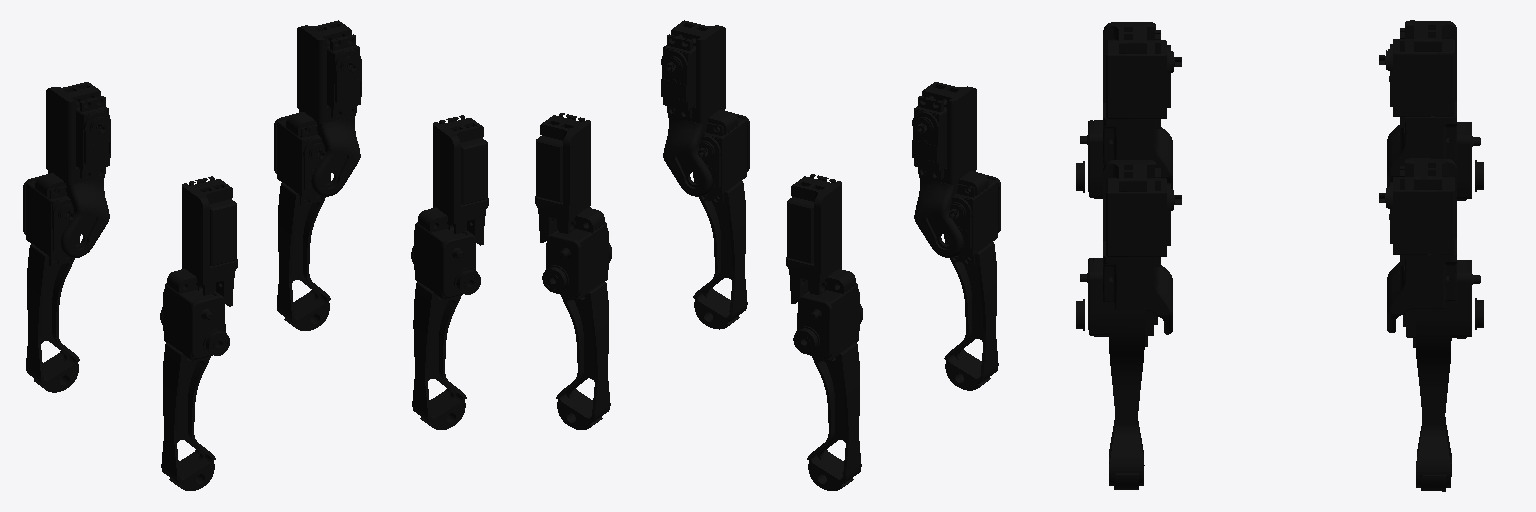
robot.urdf — rex:
<?xml version="1.0" encoding="utf-8"?>
<robot name="rex" xmlns:xacro="http://www.ros.org/wiki/xacro">
  <material name="yellow">
    <color rgba="0.92 0.83 0.0 1"/>
  </material>
  <material name="black">
    <color rgba="0.1 0.1 0.1 1"/>
  </material>
  <material name="grey">
    <color rgba="0.6 0.6 0.6 1"/>
  </material>
  <!-- Params -->
  <!-- Macros -->
  <!-- Robot Body -->
  <link name="base_link">
    <visual>
      <geometry>
        <mesh filename="stl/mainbody.stl" scale="0.001 0.001 0.001"/>
      </geometry>
      <material name="black"/>
      <origin rpy="0 0 0" xyz="-0.045 -0.060 -0.015"/>
    </visual>
    <collision>
      <geometry>
        <box size="0.14 0.11 0.07"/>
      </geometry>
      <origin rpy="0 0 0" xyz="0 0 0"/>
    </collision>
    <inertial>
      <mass value="0.6"/>
      <inertia ixx="0.00085" ixy="0" ixz="0" iyy="0.0012250000000000002" iyz="0" izz="0.0015850000000000003"/>
    </inertial>
  </link>

<!--  @TODO add lidar sensor-->
  <!-- Lidar Backpack -->
<!--  <link name="lidar_link">-->
<!--    <visual>-->
<!--      <geometry>-->
<!--        <mesh filename="stl/rplidar_main.STL" scale="0.001 0.001 0.001"/>-->
<!--      </geometry>-->
<!--      <material name="black"/>-->
<!--      <origin rpy="1.57075 0 0" xyz="-0.06425 0.02885 0"/>-->
<!--    </visual>-->
<!--    <collision>-->
<!--      <geometry>-->
<!--        <box size="0.0985 0.0577 0.07"/>-->
<!--      </geometry>-->
<!--      <origin rpy="0 0 0" xyz="0 0 0"/>-->
<!--    </collision>-->
<!--    <inertial>-->
<!--      <mass value="0.50"/>-->
<!--      <inertia ixx="100" ixy="0" ixz="0" iyy="100" iyz="0" izz="100"/>-->
<!--    </inertial>-->
<!--  </link>-->
<!--  <joint name="base_lidar" type="fixed">-->
<!--    <parent link="base_link"/>-->
<!--    <child link="lidar_link"/>-->
<!--    <origin xyz="0 0 0.035"/>-->
<!--  </joint>-->

  <!-- create head & tail -->
  <link name="chassis_front_link">
    <visual>
      <geometry>
        <mesh filename="stl/frontpart.stl" scale="0.001 0.001 0.001"/>
      </geometry>
      <origin rpy="0 0 0" xyz="-0.040 -0.060 -0.0140"/>
      <material name="yellow"/>
    </visual>
    <collision>
      <geometry>
        <box size="0.058 0.11 0.07"/>
      </geometry>
      <origin rpy="0 0 0" xyz="-0.145 0 0"/>
    </collision>
    <inertial>
      <mass value="0.05"/>
      <inertia ixx="7.083333333333334e-05" ixy="0" ixz="0" iyy="3.4433333333333335e-05" iyz="0" izz="6.443333333333333e-05"/>
    </inertial>
  </link>
  <joint name="chassis_base_front" type="fixed">
    <parent link="base_link"/>
    <child link="chassis_front_link"/>
  </joint>
  <link name="chassis_rear_link">
    <visual>
      <geometry>
        <mesh filename="stl/backpart.stl" scale="0.001 0.001 0.001"/>
      </geometry>
      <origin rpy="0 0 0" xyz="-0.040 -0.060 -0.0140"/>
      <material name="yellow"/>
    </visual>
    <collision>
      <geometry>
        <box size="0.04 0.11 0.07"/>
      </geometry>
      <origin rpy="0 0 0" xyz="0.135 0 0"/>
    </collision>
    <inertial>
      <mass value="0.05"/>
      <inertia ixx="7.083333333333334e-05" ixy="0" ixz="0" iyy="2.7083333333333335e-05" iyz="0" izz="5.7083333333333336e-05"/>
    </inertial>
  </link>
  <joint name="chassis_base_rear" type="fixed">
    <parent link="base_link"/>
    <child link="chassis_rear_link"/>
  </joint>

  <!-- create Legs -->
  <link name="front_left_shoulder_link">
    <visual>
      <geometry>
        <mesh filename="stl/lshoulder.stl" scale="0.001 0.001 0.001"/>
      </geometry>
      <origin rpy="0 0 0" xyz="-0.135 -0.02 -0.01"/>
      <material name="black"/>
    </visual>
    <collision>
      <geometry>
        <box size="0.044 0.038 0.07"/>
      </geometry>
      <origin rpy="0 0 0" xyz="0 0 0"/>
    </collision>
    <inertial>
      <mass value="0.084"/>
      <inertia ixx="4.176466666666667e-05" iyy="4.500366666666667e-05" izz="2.2251666666666666e-05" ixy="0.0" ixz="0.0" iyz="0.0"/>
    </inertial>
  </link>
  <link name="front_left_leg_link">
    <visual>
      <geometry>
        <mesh filename="stl/larmshortened.stl" scale="0.0001 0.0001 0.0001"/>
      </geometry>
      <origin rpy="0 0 0" xyz="-0.125 0.04 -0.02"/>
      <material name="black"/>
    </visual>
    <collision>
      <origin rpy="0.0 0.0 0.0" xyz="0.0 0.0 -0.050"/>
      <geometry>
        <box size="0.028 0.036 0.07"/>
      </geometry>
    </collision>
    <inertial>
      <mass value="0.091"/>
      <inertia ixx="0.00012164399999999999" iyy="0.00011767599999999999" izz="1.6119999999999998e-05" ixy="0.0" ixz="0.0" iyz="0.0"/>
    </inertial>
  </link>
  <link name="front_left_foot_link">
    <visual>
      <geometry>
        <mesh filename="stl/lfoot.stl" scale="0.0001 0.0001 0.0001"/>
      </geometry>
      <origin rpy="0 0 0" xyz="-0.120 0.04 0.1"/>
      <material name="black"/>
    </visual>
    <collision>
      <geometry>
        <box size="0.026 0.020 0.11"/>
      </geometry>
      <origin rpy="0.0 0.0 0.0" xyz="0.0 0.0 -0.050"/>
    </collision>
    <inertial>
      <mass value="0.087"/>
      <inertia ixx="9.651041666666667e-05" iyy="9.846541666666668e-05" izz="7.621666666666667e-06" ixy="0.0" ixz="0.0" iyz="0.0"/>
    </inertial>
  </link>
  <link name="front_left_toe_link">
    <visual>
      <geometry>
        <mesh filename="stl/foot.stl" scale="0.001 0.001 0.001"/>
      </geometry>
      <origin rpy="0 -0.40010 0" xyz="0 -0.01 0"/>
      <material name="grey"/>
    </visual>
    <collision>
      <geometry>
        <mesh filename="stl/foot.stl" scale="0.001 0.001 0.001"/>
      </geometry>
      <origin rpy="0 -0.40010 0" xyz="0 -0.01 0.015"/>
      <contact_coefficients mu="10.1"/>
    </collision>
    <inertial>
      <mass value="0.005"/>
      <inertia ixx="0.4" ixy="0.0" ixz="0.0" iyy="0.4" iyz="0.0" izz="0.2"/>
    </inertial>
  </link>
  <joint name="motor_front_left_shoulder" type="revolute">
    <parent link="base_link"/>
    <child link="front_left_shoulder_link"/>
    <axis xyz="1 0 0"/>
    <origin rpy="0 0 0" xyz="-0.093 -0.036 0"/>
    <limit effort="3" lower="-1.0" upper="1.0" velocity="0.7"/>
    <dynamics damping="0.0" friction="0.5"/>
  </joint>
  <joint name="motor_front_left_leg" type="revolute">
    <parent link="front_left_shoulder_link"/>
    <child link="front_left_leg_link"/>
    <axis xyz="0 1 0"/>
    <origin rpy="0 0 0" xyz="0 -0.052 0"/>
    <limit effort="3" lower="-2.17" upper="0.97" velocity="0.5"/>
    <dynamics damping="0.0" friction="0.0"/>
  </joint>

  <joint name="foot_motor_front_left" type="revolute">
    <parent link="front_left_leg_link"/>
    <child link="front_left_foot_link"/>
    <axis xyz="0 1 0"/>
    <origin rpy="0 0 0" xyz="-0.01 0 -0.07"/>
    <limit effort="3" lower="-0.1" upper="2.59" velocity="0.5"/>
    <dynamics damping="0.0" friction="0.5"/>
  </joint>
  <joint name="front_left_toe" type="fixed">
    <parent link="front_left_foot_link"/>
    <child link="front_left_toe_link"/>
    <origin xyz="0 0 -0.115"/>
  </joint>

  <link name="front_right_shoulder_link">
    <visual>
      <geometry>
        <mesh filename="stl/rshoulder.stl" scale="0.001 0.001 0.001"/>
      </geometry>
      <origin rpy="0 0 0" xyz="-0.135 -0.09 -0.01"/>
      <material name="black"/>
    </visual>
    <collision>
      <geometry>
        <box size="0.044 0.038 0.07"/>
      </geometry>
      <origin rpy="0 0 0" xyz="0 0 0"/>
    </collision>
    <inertial>
      <mass value="0.084"/>
      <inertia ixx="4.176466666666667e-05" iyy="4.500366666666667e-05" izz="2.2251666666666666e-05" ixy="0.0" ixz="0.0" iyz="0.0"/>
    </inertial>
  </link>
  <link name="front_right_leg_link">
    <visual>
      <geometry>
        <mesh filename="stl/rarmshortened.stl" scale="0.0001 0.0001 0.0001"/>
      </geometry>
      <origin rpy="0 0 0" xyz="-0.125 -0.15 -0.02"/>
      <material name="black"/>
    </visual>
    <collision>
      <origin rpy="0.0 0.0 0.0" xyz="0.0 0.0 -0.050"/>
      <geometry>
        <box size="0.028 0.036 0.07"/>
      </geometry>
    </collision>
    <inertial>
      <mass value="0.091"/>
      <inertia ixx="0.00012164399999999999" iyy="0.00011767599999999999" izz="1.6119999999999998e-05" ixy="0.0" ixz="0.0" iyz="0.0"/>
    </inertial>
  </link>
  <link name="front_right_foot_link">
    <visual>
      <geometry>
        <mesh filename="stl/rfoot.stl" scale="0.0001 0.0001 0.0001"/>
      </geometry>
      <origin rpy="0 0 0" xyz="-0.120 -0.15 0.1"/>
      <material name="black"/>
    </visual>
    <collision>
      <geometry>
        <box size="0.026 0.020 0.11"/>
      </geometry>
      <origin rpy="0.0 0.0 0.0" xyz="0.0 0.0 -0.050"/>
    </collision>
    <inertial>
      <mass value="0.087"/>
      <inertia ixx="9.651041666666667e-05" iyy="9.846541666666668e-05" izz="7.621666666666667e-06" ixy="0.0" ixz="0.0" iyz="0.0"/>
    </inertial>
  </link>
  <link name="front_right_toe_link">
    <visual>
      <geometry>
        <mesh filename="stl/foot.stl" scale="0.001 0.001 0.001"/>
      </geometry>
      <origin rpy="0 -0.40010 0" xyz="0 -0.01 0"/>
      <material name="grey"/>
    </visual>
    <collision>
      <geometry>
        <mesh filename="stl/foot.stl" scale="0.001 0.001 0.001"/>
      </geometry>
      <origin rpy="0 -0.40010 0" xyz="0 -0.01 0.015"/>
      <contact_coefficients mu="10.1"/>
    </collision>
    <inertial>
      <mass value="0.005"/>
      <inertia ixx="0.4" ixy="0.0" ixz="0.0" iyy="0.4" iyz="0.0" izz="0.2"/>
    </inertial>
  </link>
  <joint name="motor_front_right_shoulder" type="revolute">
    <parent link="base_link"/>
    <child link="front_right_shoulder_link"/>
    <axis xyz="1 0 0"/>
    <origin rpy="0 0 0" xyz="-0.093 0.036 0"/>
    <limit effort="3" lower="-1.0" upper="1.0" velocity="0.7"/>
    <dynamics damping="0.0" friction="0.5"/>
  </joint>
  <joint name="motor_front_right_leg" type="revolute">
    <parent link="front_right_shoulder_link"/>
    <child link="front_right_leg_link"/>
    <axis xyz="0 1 0"/>
    <origin rpy="0 0 0" xyz="0 0.052 0"/>
    <limit effort="3" lower="-2.17" upper="0.97" velocity="0.5"/>
    <dynamics damping="0.0" friction="0.0"/>
  </joint>

  <joint name="foot_motor_front_right" type="revolute">
    <parent link="front_right_leg_link"/>
    <child link="front_right_foot_link"/>
    <axis xyz="0 1 0"/>
    <origin rpy="0 0 0" xyz="-0.01 0 -0.07"/>
    <limit effort="3" lower="-0.1" upper="2.59" velocity="0.5"/>
    <dynamics damping="0.0" friction="0.5"/>
  </joint>
  <joint name="front_right_toe" type="fixed">
    <parent link="front_right_foot_link"/>
    <child link="front_right_toe_link"/>
    <origin xyz="0 0 -0.115"/>
  </joint>

  <link name="rear_left_shoulder_link">
    <visual>
      <geometry>
        <mesh filename="stl/lshoulder.stl" scale="0.001 0.001 0.001"/>
      </geometry>
      <origin rpy="0 0 0" xyz="-0.135 -0.02 -0.01"/>
      <material name="black"/>
    </visual>
    <collision>
      <geometry>
        <box size="0.044 0.038 0.07"/>
      </geometry>
      <origin rpy="0 0 0" xyz="0 0 0"/>
    </collision>
    <inertial>
      <mass value="0.084"/>
      <inertia ixx="4.176466666666667e-05" iyy="4.500366666666667e-05" izz="2.2251666666666666e-05" ixy="0.0" ixz="0.0" iyz="0.0"/>
    </inertial>
  </link>
  <link name="rear_left_leg_link">
    <visual>
      <geometry>
        <mesh filename="stl/larmshortened.stl" scale="0.0001 0.0001 0.0001"/>
      </geometry>
      <origin rpy="0 0 0" xyz="-0.125 0.04 -0.02"/>
      <material name="black"/>
    </visual>
    <collision>
      <origin rpy="0.0 0.0 0.0" xyz="0.0 0.0 -0.050"/>
      <geometry>
        <box size="0.028 0.036 0.07"/>
      </geometry>
    </collision>
    <inertial>
      <mass value="0.091"/>
      <inertia ixx="0.00012164399999999999" iyy="0.00011767599999999999" izz="1.6119999999999998e-05" ixy="0.0" ixz="0.0" iyz="0.0"/>
    </inertial>
  </link>
  <link name="rear_left_foot_link">
    <visual>
      <geometry>
        <mesh filename="stl/lfoot.stl" scale="0.0001 0.0001 0.0001"/>
      </geometry>
      <origin rpy="0 0 0" xyz="-0.120 0.04 0.1"/>
      <material name="black"/>
    </visual>
    <collision>
      <geometry>
        <box size="0.026 0.020 0.11"/>
      </geometry>
      <origin rpy="0.0 0.0 0.0" xyz="0.0 0.0 -0.050"/>
    </collision>
    <inertial>
      <mass value="0.087"/>
      <inertia ixx="9.651041666666667e-05" iyy="9.846541666666668e-05" izz="7.621666666666667e-06" ixy="0.0" ixz="0.0" iyz="0.0"/>
    </inertial>
  </link>
  <link name="rear_left_toe_link">
    <visual>
      <geometry>
        <mesh filename="stl/foot.stl" scale="0.001 0.001 0.001"/>
      </geometry>
      <origin rpy="0 -0.40010 0" xyz="0 -0.01 0"/>
      <material name="grey"/>
    </visual>
    <collision>
      <geometry>
        <mesh filename="stl/foot.stl" scale="0.001 0.001 0.001"/>
      </geometry>
      <origin rpy="0 -0.40010 0" xyz="0 -0.01 0.015"/>
      <contact_coefficients mu="10.1"/>
    </collision>
    <inertial>
      <mass value="0.005"/>
      <inertia ixx="0.4" ixy="0.0" ixz="0.0" iyy="0.4" iyz="0.0" izz="0.2"/>
    </inertial>
  </link>
  <joint name="motor_rear_left_shoulder" type="revolute">
    <parent link="base_link"/>
    <child link="rear_left_shoulder_link"/>
    <axis xyz="1 0 0"/>
    <origin rpy="0 0 0" xyz="0.093 -0.036 0"/>
    <limit effort="3" lower="-1.0" upper="1.0" velocity="0.7"/>
    <dynamics damping="0.0" friction="0.5"/>
  </joint>
  <joint name="motor_rear_left_leg" type="revolute">
    <parent link="rear_left_shoulder_link"/>
    <child link="rear_left_leg_link"/>
    <axis xyz="0 1 0"/>
    <origin rpy="0 0 0" xyz="0 -0.052 0"/>
    <limit effort="3" lower="-2.17" upper="0.97" velocity="0.5"/>
    <dynamics damping="0.0" friction="0.0"/>
  </joint>
  <joint name="foot_motor_rear_left" type="revolute">
    <parent link="rear_left_leg_link"/>
    <child link="rear_left_foot_link"/>
    <axis xyz="0 1 0"/>
    <origin rpy="0 0 0" xyz="-0.01 0 -0.07"/>
    <limit effort="3" lower="-0.1" upper="2.59" velocity="0.5"/>
    <dynamics damping="0.0" friction="0.5"/>
  </joint>
  <joint name="rear_left_toe" type="fixed">
    <parent link="rear_left_foot_link"/>
    <child link="rear_left_toe_link"/>
    <origin xyz="0 0 -0.115"/>
  </joint>

  <link name="rear_right_shoulder_link">
    <visual>
      <geometry>
        <mesh filename="stl/rshoulder.stl" scale="0.001 0.001 0.001"/>
      </geometry>
      <origin rpy="0 0 0" xyz="-0.135 -0.09 -0.01"/>
      <material name="black"/>
    </visual>
    <collision>
      <geometry>
        <box size="0.044 0.038 0.07"/>
      </geometry>
      <origin rpy="0 0 0" xyz="0 0 0"/>
    </collision>
    <inertial>
      <mass value="0.084"/>
      <inertia ixx="4.176466666666667e-05" iyy="4.500366666666667e-05" izz="2.2251666666666666e-05" ixy="0.0" ixz="0.0" iyz="0.0"/>
    </inertial>
  </link>
  <link name="rear_right_leg_link">
    <visual>
      <geometry>
        <mesh filename="stl/rarmshortened.stl" scale="0.0001 0.0001 0.0001"/>
      </geometry>
      <origin rpy="0 0 0" xyz="-0.125 -0.15 -0.02"/>
      <material name="black"/>
    </visual>
    <collision>
      <origin rpy="0.0 0.0 0.0" xyz="0.0 0.0 -0.050"/>
      <geometry>
        <box size="0.028 0.036 0.07"/>
      </geometry>
    </collision>
    <inertial>
      <mass value="0.091"/>
      <inertia ixx="0.00012164399999999999" iyy="0.00011767599999999999" izz="1.6119999999999998e-05" ixy="0.0" ixz="0.0" iyz="0.0"/>
    </inertial>
  </link>
  <link name="rear_right_foot_link">
    <visual>
      <geometry>
        <mesh filename="stl/rfoot.stl" scale="0.0001 0.0001 0.0001"/>
      </geometry>
      <origin rpy="0 0 0" xyz="-0.120 -0.15 0.1"/>
      <material name="black"/>
    </visual>
    <collision>
      <geometry>
        <box size="0.026 0.020 0.11"/>
      </geometry>
      <origin rpy="0.0 0.0 0.0" xyz="0.0 0.0 -0.050"/>
    </collision>
    <inertial>
      <mass value="0.087"/>
      <inertia ixx="9.651041666666667e-05" iyy="9.846541666666668e-05" izz="7.621666666666667e-06" ixy="0.0" ixz="0.0" iyz="0.0"/>
    </inertial>
  </link>
  <link name="rear_right_toe_link">
    <visual>
      <geometry>
        <mesh filename="stl/foot.stl" scale="0.001 0.001 0.001"/>
      </geometry>
      <origin rpy="0 -0.40010 0" xyz="0 -0.01 0"/>
      <material name="grey"/>
    </visual>
    <collision>
      <geometry>
        <mesh filename="stl/foot.stl" scale="0.001 0.001 0.001"/>
      </geometry>
      <origin rpy="0 -0.40010 0" xyz="0 -0.01 0.015"/>
      <contact_coefficients mu="10.1"/>
    </collision>
    <inertial>
      <mass value="0.005"/>
      <inertia ixx="0.4" ixy="0.0" ixz="0.0" iyy="0.4" iyz="0.0" izz="0.2"/>
    </inertial>
  </link>
  <joint name="motor_rear_right_shoulder" type="revolute">
    <parent link="base_link"/>
    <child link="rear_right_shoulder_link"/>
    <axis xyz="1 0 0"/>
    <origin rpy="0 0 0" xyz="0.093 0.036 0"/>
    <limit effort="3" lower="-1.0" upper="1.0" velocity="0.7"/>
    <dynamics damping="0.0" friction="0.5"/>
  </joint>
  <joint name="motor_rear_right_leg" type="revolute">
    <parent link="rear_right_shoulder_link"/>
    <child link="rear_right_leg_link"/>
    <axis xyz="0 1 0"/>
    <origin rpy="0 0 0" xyz="0 0.052 0"/>
    <limit effort="3" lower="-2.17" upper="0.97" velocity="0.5"/>
    <dynamics damping="0.0" friction="0.0"/>
  </joint>
  <joint name="foot_motor_rear_right" type="revolute">
    <parent link="rear_right_leg_link"/>
    <child link="rear_right_foot_link"/>
    <axis xyz="0 1 0"/>
    <origin rpy="0 0 0" xyz="-0.01 0 -0.07"/>
    <limit effort="3" lower="-0.1" upper="2.59" velocity="0.5"/>
    <dynamics damping="0.0" friction="0.5"/>
  </joint>
  <joint name="rear_right_toe" type="fixed">
    <parent link="rear_right_foot_link"/>
    <child link="rear_right_toe_link"/>
    <origin xyz="0 0 -0.115"/>
  </joint>
</robot>

--- Facts derived from the render (not from the file) ---
Views: 3 orthographic renders of the robot side by side, from view 1: azimuth 30°, elevation 25°; view 2: azimuth 150°, elevation 25°; view 3: azimuth 270°, elevation 25°.
Model rex with 19 links and 18 joints (12 revolute, 6 fixed), rooted at base_link, posed all joints at 0.
Visible links, largest first — view 1: front_left_foot_link, rear_left_foot_link, front_right_leg_link, rear_right_leg_link, front_right_foot_link, rear_right_foot_link, front_left_leg_link, rear_left_leg_link; view 2: rear_right_foot_link, front_right_foot_link, rear_left_foot_link, front_left_foot_link, rear_left_leg_link, front_left_leg_link, front_right_leg_link, rear_right_leg_link; view 3: rear_left_leg_link, rear_right_leg_link, front_left_leg_link, front_right_leg_link, rear_right_foot_link, rear_left_foot_link, front_right_foot_link, front_left_foot_link.
Link boxes in pixels (x1,y1,x2,y2): front_left_foot_link: (161,269,225,490); rear_left_foot_link: (412,207,475,429); front_right_leg_link: (46,82,110,257); rear_right_leg_link: (297,20,361,196); front_right_foot_link: (23,173,80,392); rear_right_foot_link: (274,112,331,330); front_left_leg_link: (160,176,237,355); rear_left_leg_link: (411,115,488,294); rear_right_foot_link: (546,208,610,429); front_right_foot_link: (797,269,861,490); rear_left_foot_link: (693,110,749,329); front_left_foot_link: (944,171,1000,390); rear_left_leg_link: (661,20,725,196); front_left_leg_link: (912,82,976,257); front_right_leg_link: (786,174,862,353); rear_right_leg_link: (535,113,611,291); rear_left_leg_link: (1076,160,1181,334); rear_right_leg_link: (1379,158,1483,332); front_left_leg_link: (1076,22,1181,192); front_right_leg_link: (1379,20,1483,191); rear_right_foot_link: (1403,260,1480,491); rear_left_foot_link: (1080,258,1157,489); front_right_foot_link: (1456,122,1480,200); front_left_foot_link: (1080,120,1104,198).
Bounding box of the posed robot: 0.2309 × 0.2321 × 0.2088 m (x, y, z).
8 mesh visuals loaded from 10 distinct referenced files (4 binary STL); not drawn: 11 (reference not matched to a file when rendering).